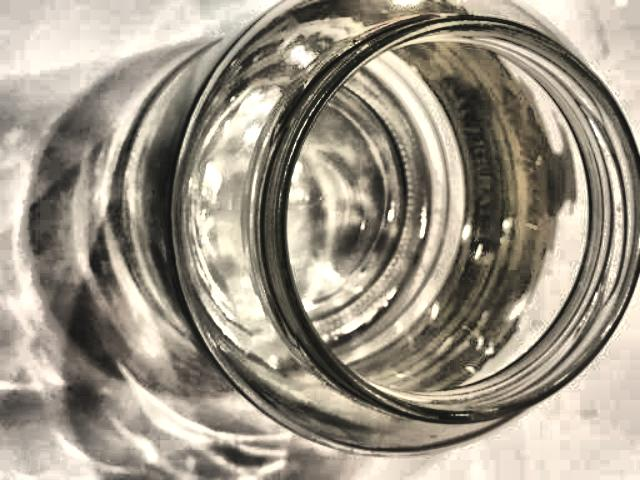Almennt: (118, 0, 640, 458)
